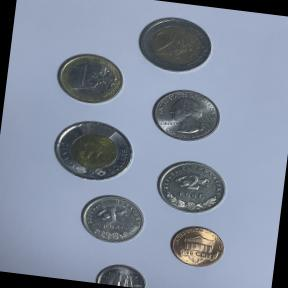coin: (43, 112, 140, 190), (132, 9, 220, 80), (148, 153, 234, 222), (144, 83, 228, 148), (50, 47, 130, 112), (162, 218, 230, 274), (89, 257, 150, 288)
